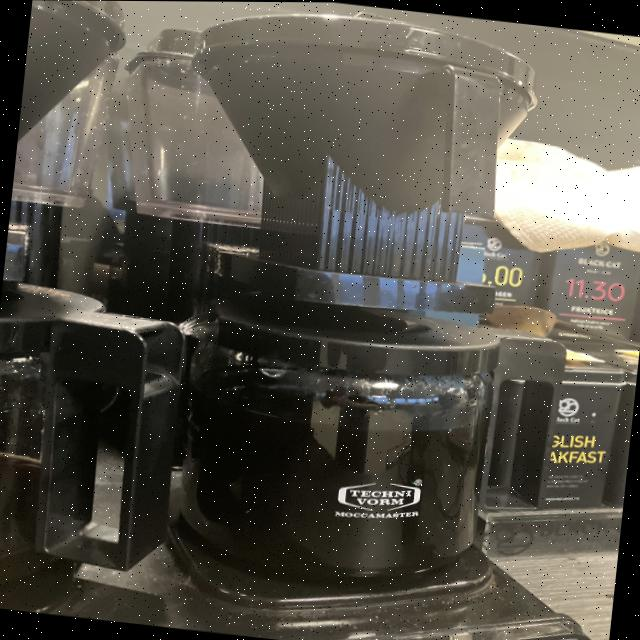coffee: (170, 290, 522, 601), (0, 275, 148, 615)
